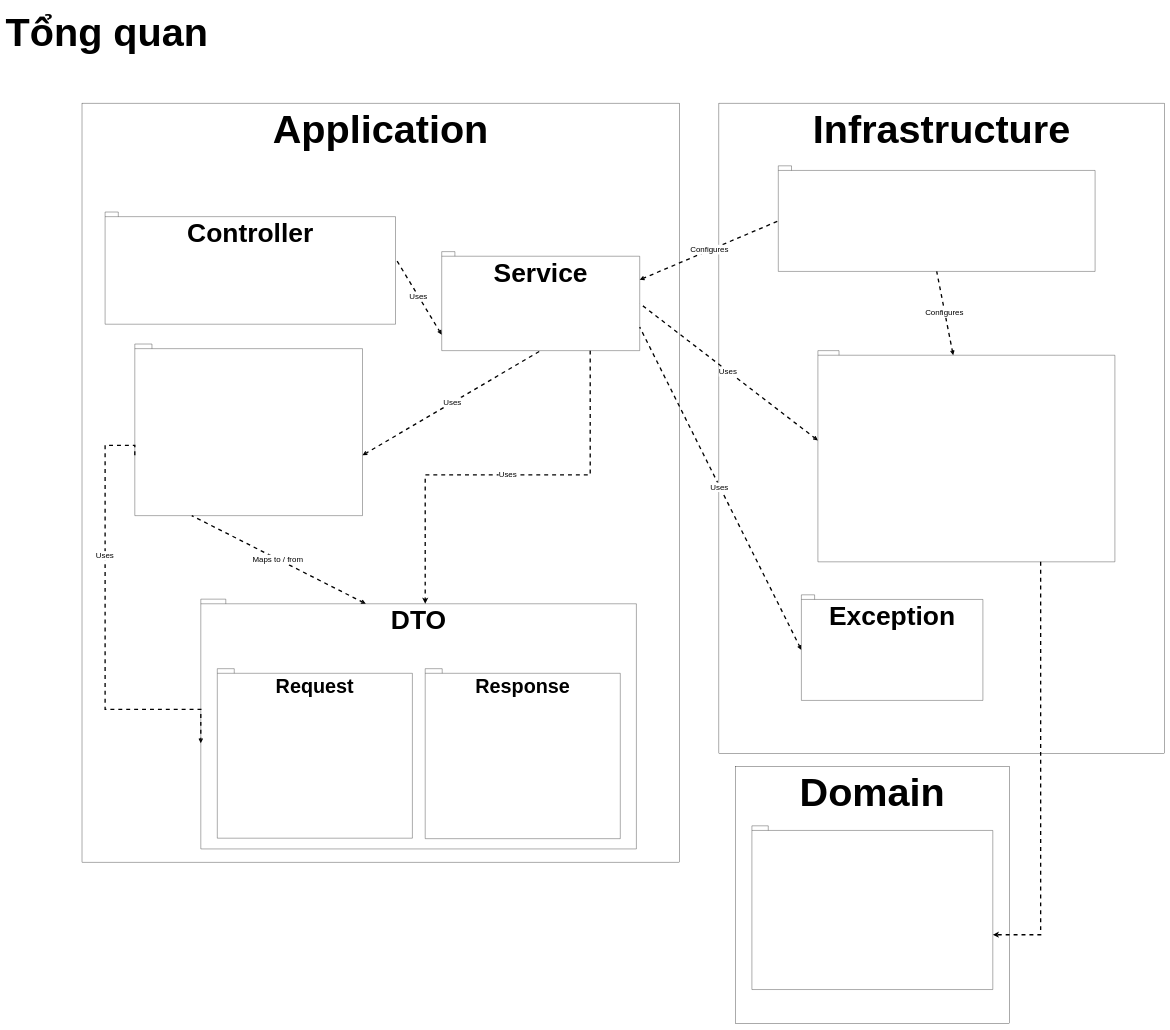
The diagram is 1170 pixels wide and 1030 high, and some of its shapes have lost their labels. The shapes that lost their labels are listed below. From the top down, each one's centre as x and y in pixels, then its label:
the point at 936,218: Configuration
the point at 248,430: Mapper
the point at 966,456: Repository
the point at 872,907: Entity
